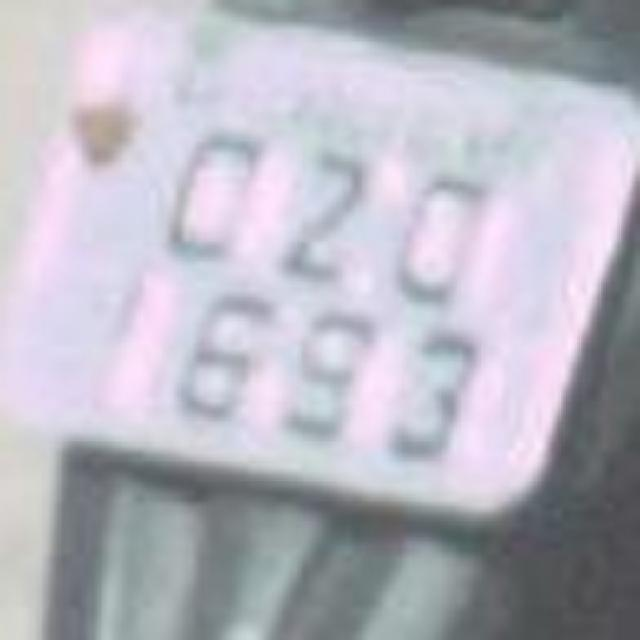3: (344, 300, 508, 485)
4: (40, 240, 165, 415)
6: (148, 264, 284, 436)
9: (252, 284, 400, 451)
D: (388, 152, 508, 316)
O: (152, 108, 276, 268), (389, 164, 496, 304)
Z: (260, 128, 388, 288)
